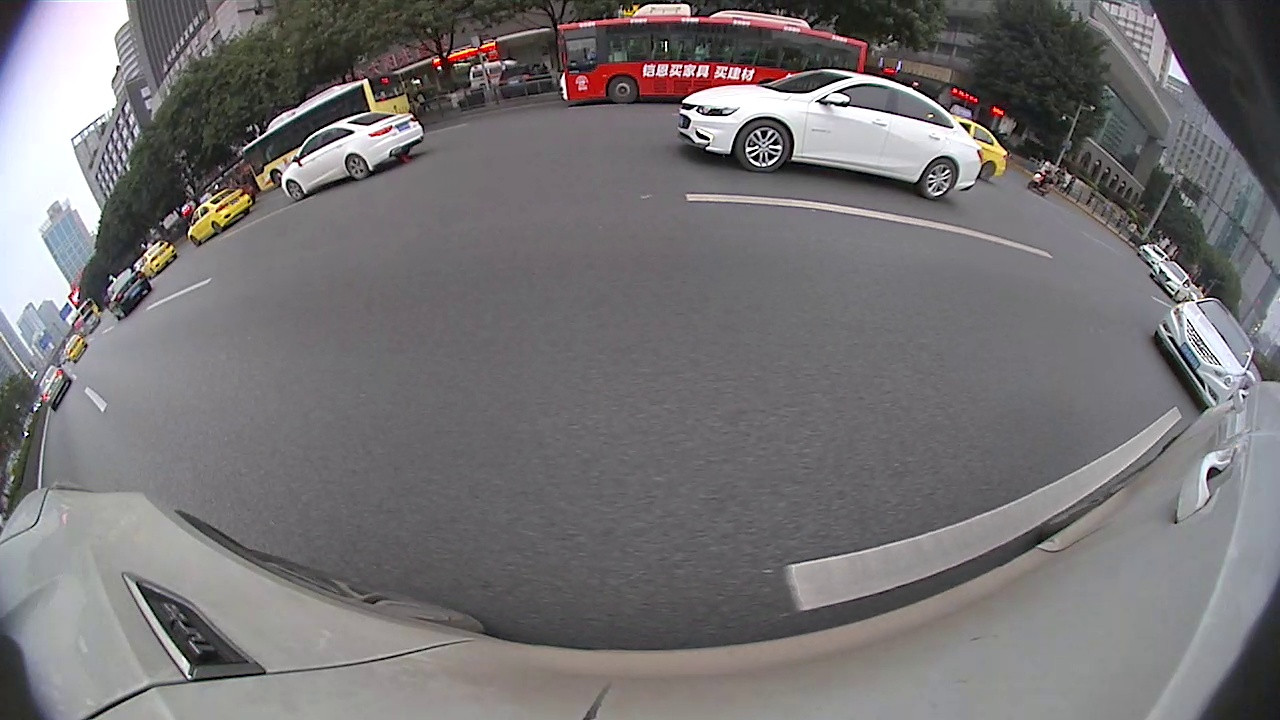bus: (556, 3, 869, 105), (241, 72, 412, 193)
car: (676, 71, 983, 200), (280, 112, 425, 202), (1154, 297, 1255, 413), (935, 116, 1009, 183), (188, 187, 253, 248), (105, 265, 152, 322), (1148, 260, 1193, 304), (38, 364, 72, 412)
front: (735, 119, 789, 171), (608, 76, 637, 103), (286, 180, 303, 199)
rear: (919, 158, 957, 198), (345, 157, 367, 177), (981, 162, 997, 181)
rider: (1025, 164, 1060, 199)
